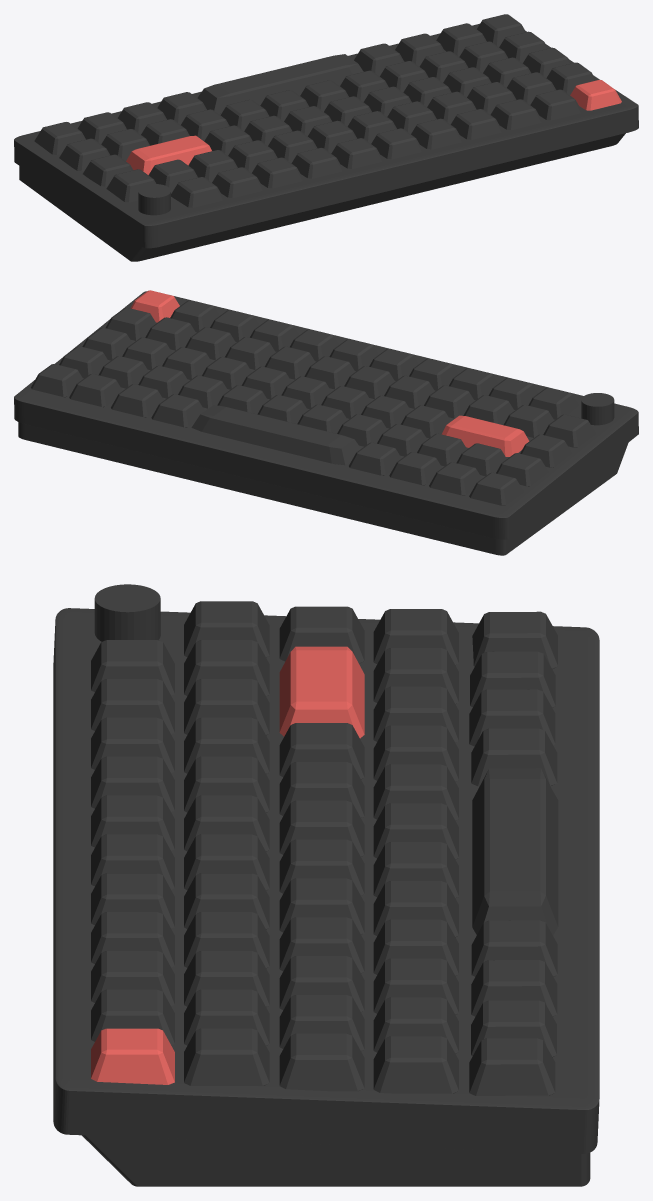
File: keyboard.glb
3 renders of one model, top to bottom at view 1: azimuth 30°, elevation 25°; view 2: azimuth 150°, elevation 25°; view 3: azimuth 270°, elevation 25°, orthographic. The views are drawn at different scales.
Visible parts, largest first — view 1: Cubo.001, Cubo.051, Cubo, Cubo.027, Cubo.003, Cubo.006, Cubo.004, Cubo.005, Cubo.012, Cubo.008, Cubo.009, Cubo.010 (+39 smaller); view 2: Cubo.001, Cubo.051, Cubo, Cubo.027, Cubo.038, Cubo.014, Cubo.050, Cubo.026, Cubo.015, Cubo.017, Cubo.018, Cubo.021 (+39 smaller); view 3: Cubo.001, Cubo.051, Cubo, Cubo.027, Cubo.025, Cubo.049, Cubo.037, Cubo.013, Cubo.026, Cilindro, Cubo.038, Cubo.018 (+39 smaller).
Part boxes in pixels (x1,y1,x2,y2): Cubo.001: (14, 23, 638, 248); Cubo.051: (77, 14, 525, 144); Cubo: (19, 133, 625, 261); Cubo.027: (126, 135, 211, 174); Cubo.003: (171, 177, 223, 207); Cubo.006: (291, 147, 343, 178); Cubo.004: (212, 167, 263, 197); Cubo.005: (252, 157, 303, 188); Cubo.012: (530, 89, 581, 120); Cubo.008: (371, 128, 422, 159); Cubo.009: (411, 118, 462, 149); Cubo.010: (451, 109, 502, 139); Cubo.001: (14, 291, 638, 539); Cubo.051: (31, 364, 481, 495); Cubo: (18, 422, 628, 555); Cubo.027: (441, 415, 529, 456); Cubo.038: (469, 472, 523, 505); Cubo.014: (543, 414, 596, 447); Cubo.050: (496, 453, 548, 486); Cubo.026: (520, 434, 571, 467); Cubo.015: (503, 404, 554, 437); Cubo.017: (424, 385, 474, 418); Cubo.018: (384, 375, 434, 408); Cubo.021: (264, 346, 315, 379); Cubo.001: (53, 608, 599, 1153); Cubo.051: (469, 651, 558, 1095); Cubo: (82, 1135, 590, 1186); Cubo.027: (279, 646, 364, 738); Cubo.025: (184, 1028, 269, 1085); Cubo.049: (373, 1036, 458, 1093); Cubo.037: (279, 1033, 364, 1091); Cubo.013: (91, 1028, 174, 1084); Cubo.026: (279, 606, 364, 663); Cilindro: (94, 584, 160, 641); Cubo.038: (472, 611, 557, 668); Cubo.018: (184, 756, 269, 812).
Bounding box in the file's own units: 4.14 × 0.5402 × 1.98.
